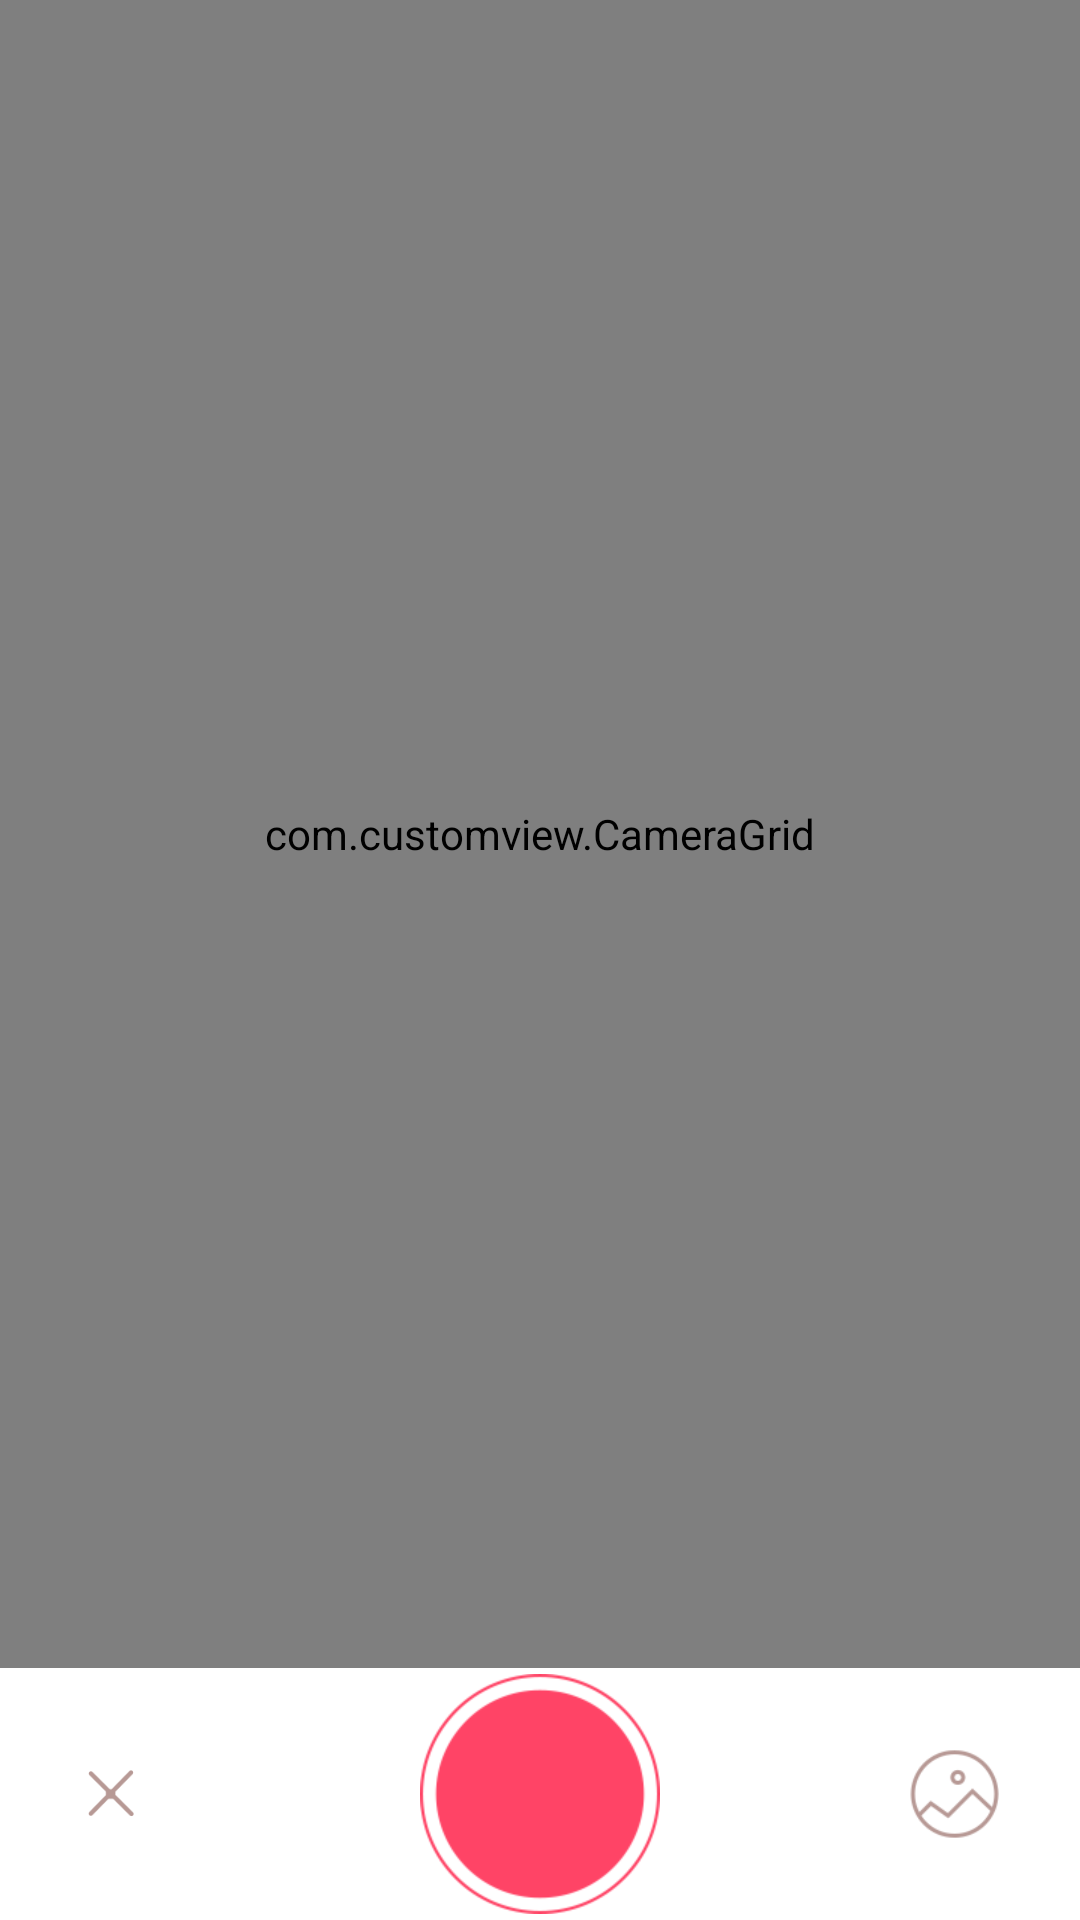

Where to tap for icons on this 1080×1920 app screen, as point (x, y):
camera back: point (111, 1793)
camera library: point (954, 1794)
camera trigger: point (540, 1794)
